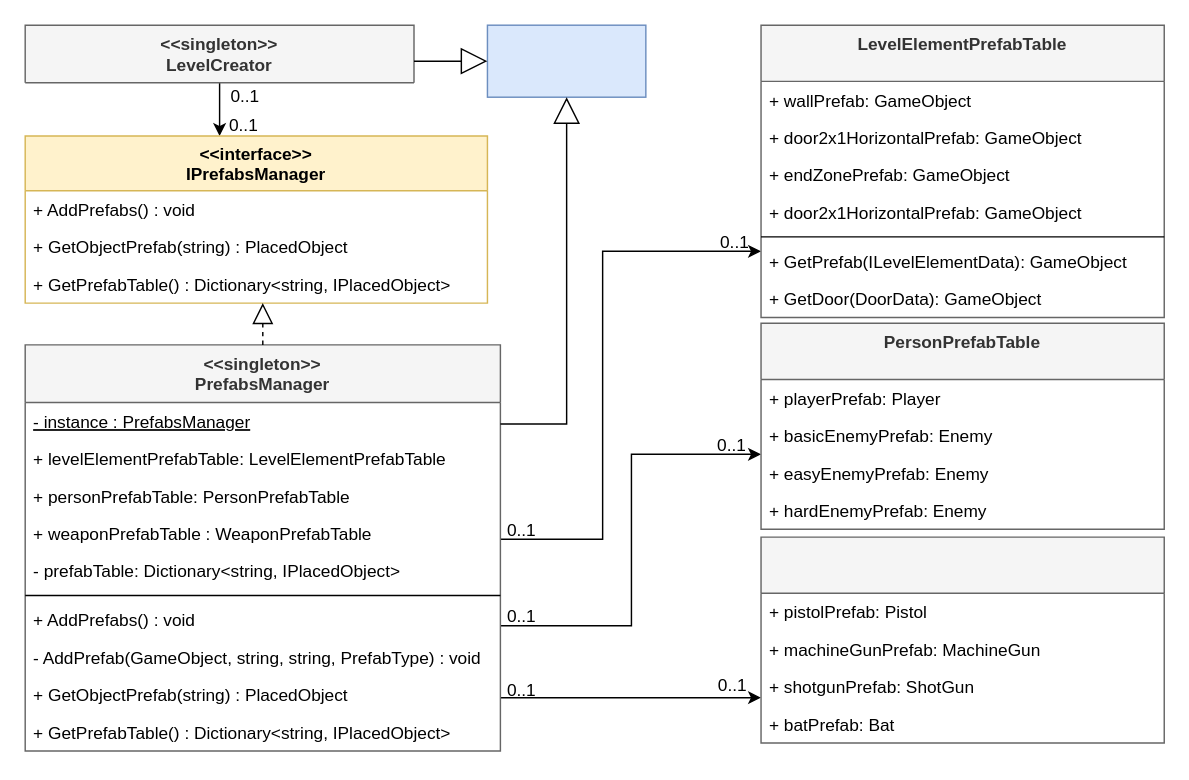
Some shapes in this 1189 by 780 pixel diagram are drawn without their labels. Each missing label, with the box of its shape:
MonoBehaviour: (486, 24, 646, 97)
WeaponPrefabTable: (760, 536, 1164, 743)
